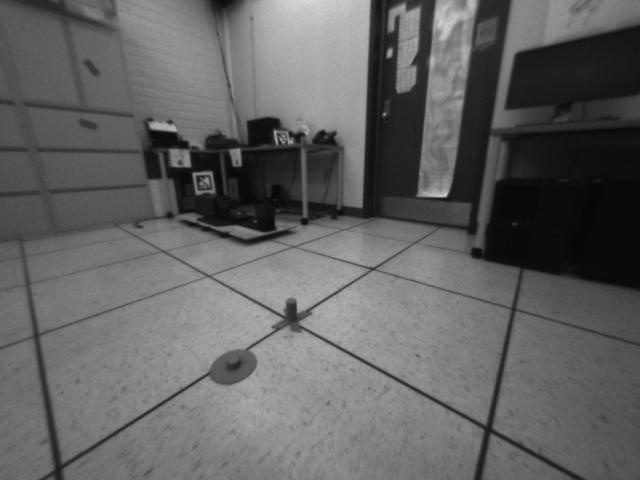X: (270, 297, 314, 333)
